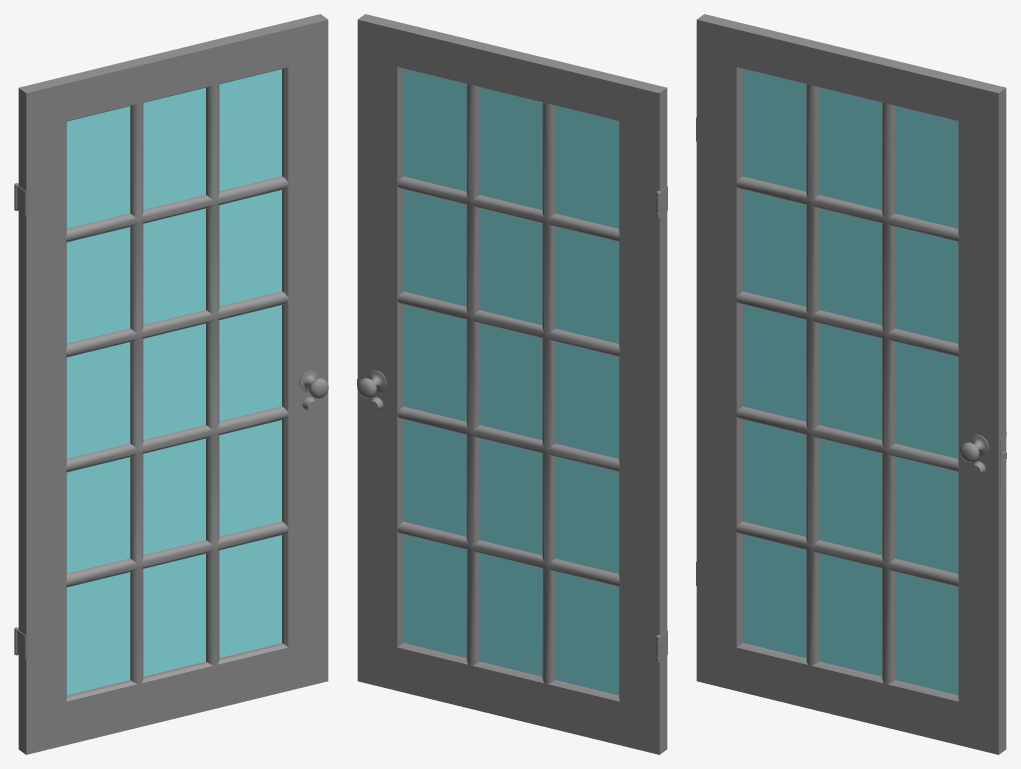
Rendered from Door_mesh_B_R.FBX.
3 renders of one model, left to right at view 1: azimuth 30°, elevation 25°; view 2: azimuth 150°, elevation 25°; view 3: azimuth 330°, elevation 25°, orthographic.
Visible parts, largest first — view 1: Door_mesh_B_R, Windowglass_A; view 2: Door_mesh_B_R, Windowglass_A; view 3: Door_mesh_B_R, Windowglass_A.
Boxes of the visible parts, box(x1,y1,x2,y2) form: Door_mesh_B_R: box(14, 14, 328, 754); Windowglass_A: box(66, 69, 281, 695); Door_mesh_B_R: box(357, 14, 667, 754); Windowglass_A: box(403, 69, 618, 695); Door_mesh_B_R: box(696, 14, 1006, 754); Windowglass_A: box(743, 69, 958, 695).
Size of the model in its own units: 105 by 216 by 19.99.
